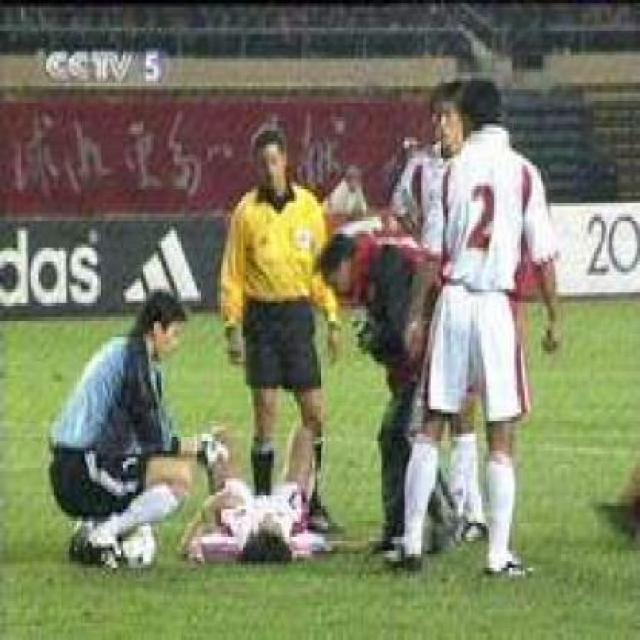fall: (177, 409, 332, 562)
